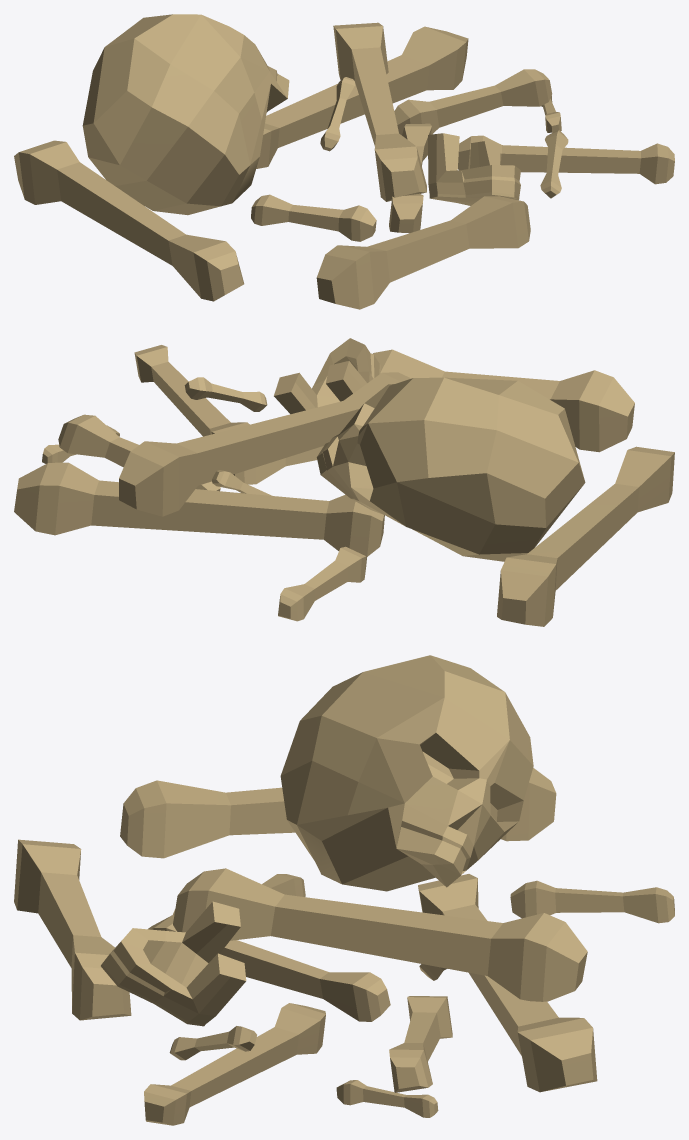
The model's file is Bone_pile_A.fbx.
The picture shows the model from 3 angles, top to bottom: view 1: azimuth 30°, elevation 25°; view 2: azimuth 150°, elevation 25°; view 3: azimuth 270°, elevation 25°; orthographic projection. The views are drawn at different scales.
Parts seen in each view (by area): view 1: Bone_pile_A; view 2: Bone_pile_A; view 3: Bone_pile_A.
Part boxes in pixels (left/top/right/bottom): Bone_pile_A: left=14, top=14, right=674, bottom=309; Bone_pile_A: left=14, top=338, right=674, bottom=626; Bone_pile_A: left=14, top=655, right=674, bottom=1125.
Bounding box in the file's own units: 72.27 × 23.95 × 63.52.
